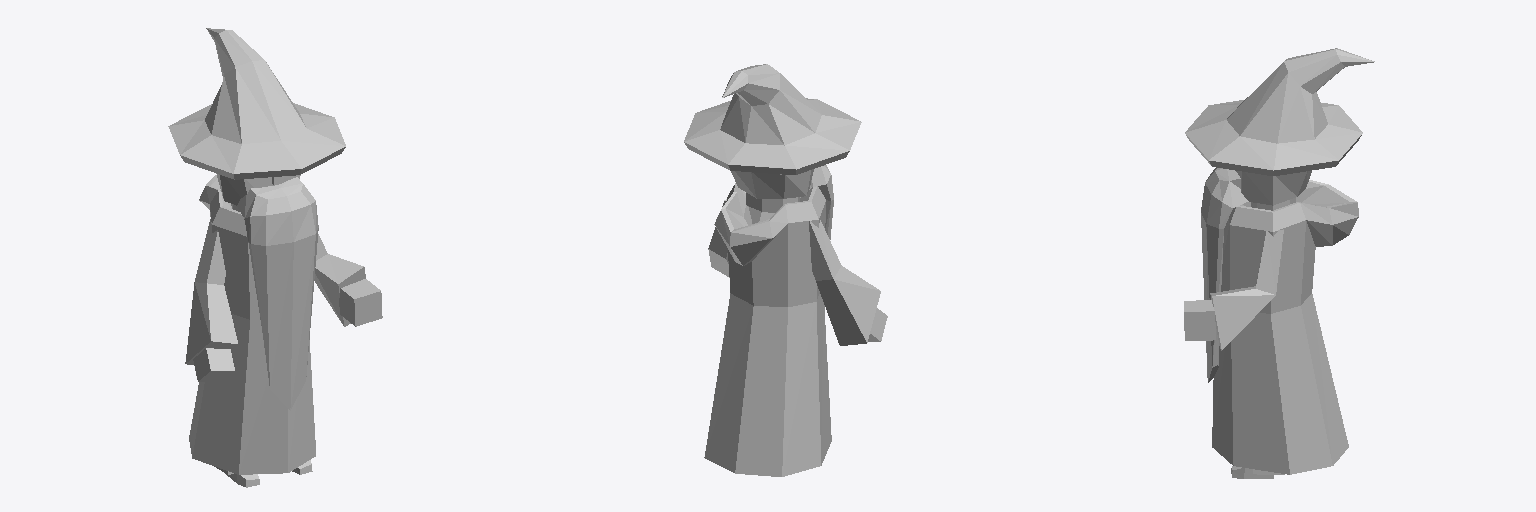
The model's file is Wizard.obj.
3 views of the same model, side by side, from view 1: azimuth 30°, elevation 25°; view 2: azimuth 150°, elevation 25°; view 3: azimuth 270°, elevation 25° (orthographic).
Parts seen in each view (by area): view 1: Wizard; view 2: Wizard; view 3: Wizard.
Part boxes in pixels (bbox=[...]): Wizard: bbox=[168, 28, 382, 487]; Wizard: bbox=[684, 64, 887, 476]; Wizard: bbox=[1184, 48, 1374, 478].
Bounding box in the file's own units: 1.07 × 2.46 × 1.04.